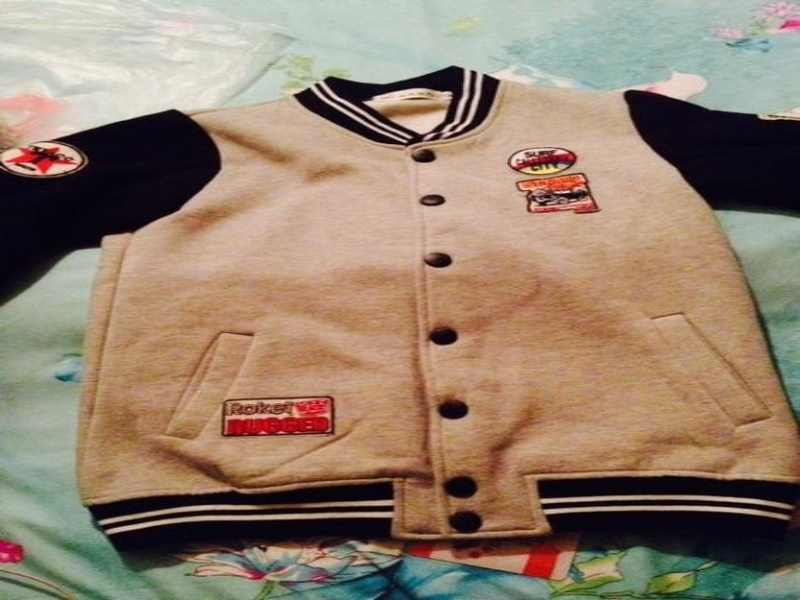long_sleeved_shirt: (0, 52, 795, 579)
